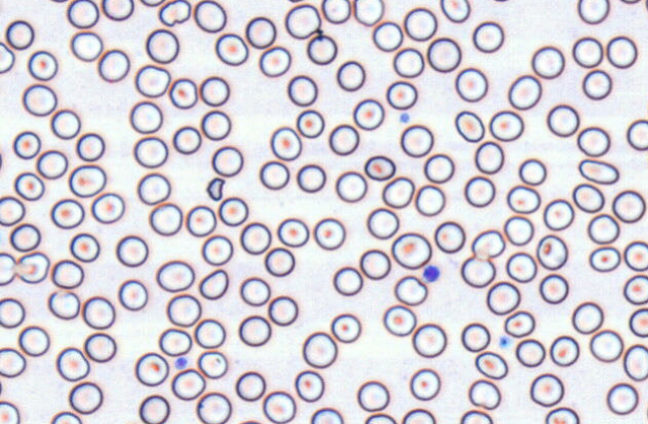PLT: (423, 265, 441, 282), (173, 357, 189, 370), (399, 112, 412, 123)
RBC: (391, 232, 431, 269), (284, 3, 320, 39), (302, 331, 337, 368), (155, 259, 194, 292), (426, 36, 461, 72), (68, 164, 106, 197), (55, 346, 90, 381), (507, 74, 541, 110), (529, 373, 564, 407), (145, 28, 179, 63), (403, 6, 437, 41), (411, 323, 446, 357), (134, 352, 169, 386), (166, 293, 201, 327), (134, 64, 170, 97), (21, 83, 57, 116), (486, 281, 520, 315), (148, 202, 182, 236), (136, 172, 171, 205), (454, 67, 487, 102), (68, 381, 103, 414), (133, 135, 168, 168), (195, 391, 231, 423), (536, 234, 568, 270), (262, 390, 296, 423), (214, 32, 248, 65), (612, 189, 645, 223), (589, 329, 623, 362), (546, 103, 579, 137), (82, 295, 115, 329), (129, 100, 162, 133), (400, 124, 433, 157), (531, 45, 564, 78), (115, 234, 148, 267), (171, 368, 205, 400), (382, 304, 416, 336), (270, 126, 302, 160), (97, 48, 129, 82), (489, 109, 523, 141), (460, 256, 495, 287), (90, 192, 125, 223), (578, 158, 619, 184), (366, 207, 399, 239), (258, 45, 291, 77), (16, 251, 49, 283), (193, 0, 226, 32), (606, 382, 638, 415), (571, 301, 603, 334), (381, 176, 414, 208), (238, 314, 271, 346), (433, 220, 465, 253), (472, 20, 504, 53), (313, 217, 345, 250), (239, 221, 271, 254), (50, 198, 84, 229), (576, 126, 610, 157), (335, 170, 367, 202), (352, 98, 384, 130), (211, 145, 243, 177), (70, 30, 103, 61), (356, 380, 389, 411), (409, 367, 440, 400), (606, 35, 637, 68), (471, 229, 505, 259), (474, 140, 504, 174), (306, 33, 337, 65), (245, 16, 276, 48), (414, 184, 445, 216), (359, 248, 391, 279), (505, 251, 537, 282), (328, 123, 359, 155), (185, 204, 216, 236), (18, 325, 50, 356), (201, 234, 233, 265), (464, 175, 495, 207), (543, 198, 574, 230), (587, 213, 619, 244), (572, 36, 603, 68), (294, 369, 324, 402), (394, 275, 427, 305), (47, 289, 80, 319), (468, 379, 501, 409), (51, 258, 84, 288), (83, 332, 116, 362), (35, 149, 68, 179), (276, 217, 309, 247), (158, 327, 192, 356), (506, 184, 540, 213), (235, 370, 266, 401), (267, 295, 298, 326), (372, 20, 403, 51), (330, 312, 361, 343), (117, 279, 148, 310), (200, 109, 231, 140), (454, 110, 484, 142), (392, 47, 424, 77), (193, 318, 225, 348), (287, 74, 317, 106), (572, 183, 604, 213), (332, 266, 363, 296), (9, 222, 40, 252), (198, 268, 228, 299), (69, 232, 100, 262), (264, 246, 295, 276), (582, 69, 612, 100), (423, 153, 454, 183), (239, 276, 270, 306), (549, 335, 579, 366), (199, 75, 229, 106), (27, 49, 57, 80), (50, 108, 80, 139), (503, 215, 534, 245), (138, 394, 170, 423), (168, 77, 197, 109), (474, 351, 507, 379), (66, 0, 99, 28), (623, 343, 647, 381), (259, 160, 289, 190), (218, 196, 248, 226), (460, 322, 490, 352), (13, 171, 44, 200), (5, 19, 34, 50), (336, 60, 365, 91), (539, 273, 568, 304), (386, 80, 417, 109), (515, 338, 545, 367), (296, 163, 326, 192), (503, 310, 535, 337), (172, 125, 201, 154), (12, 130, 41, 159), (75, 132, 104, 161), (197, 350, 227, 378), (364, 154, 395, 181), (588, 246, 620, 272), (296, 109, 324, 138), (518, 157, 546, 185), (0, 347, 26, 377), (0, 195, 25, 226), (0, 297, 25, 328), (577, 0, 609, 24), (353, 0, 383, 25), (623, 274, 647, 305), (623, 240, 647, 271), (626, 118, 647, 150), (321, 0, 350, 23), (440, 0, 470, 22), (101, 0, 134, 20), (544, 406, 579, 423), (628, 307, 647, 337), (401, 407, 435, 423), (0, 252, 16, 285), (310, 407, 343, 423), (0, 41, 15, 73), (459, 409, 492, 423), (0, 400, 19, 423), (50, 410, 82, 423), (364, 412, 396, 423), (139, 0, 165, 6), (237, 419, 262, 423), (619, 0, 641, 4), (0, 146, 3, 174), (286, 0, 306, 3), (49, 0, 69, 3), (488, 0, 514, 2), (645, 0, 648, 11)
Schistocyte: (156, 0, 192, 30), (205, 176, 226, 202)
